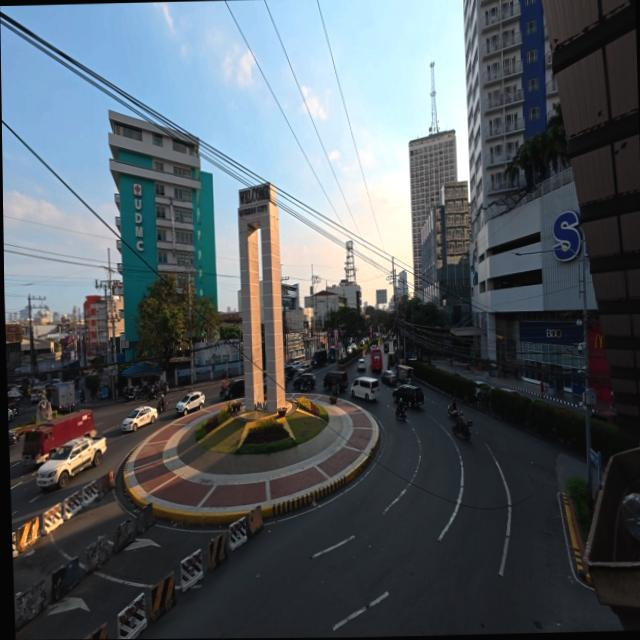Jeepneys: (397, 365, 413, 383)
bus: (370, 345, 382, 372)
car: (121, 407, 157, 432), (393, 385, 424, 407), (176, 392, 204, 416), (218, 377, 244, 399), (294, 374, 316, 391), (475, 380, 491, 401), (382, 370, 398, 384), (500, 387, 521, 396), (284, 364, 295, 380), (297, 364, 311, 376), (8, 430, 18, 445), (357, 358, 366, 371), (290, 361, 301, 369), (8, 409, 14, 421), (347, 345, 354, 353), (52, 379, 61, 385), (383, 342, 388, 352)
motorcycle: (452, 412, 471, 440), (395, 401, 407, 420), (447, 403, 461, 419), (147, 386, 159, 401), (157, 399, 167, 413), (126, 389, 137, 401), (331, 384, 340, 397), (159, 382, 169, 393), (80, 390, 85, 403)
trucks: (23, 410, 95, 465), (37, 437, 106, 489), (49, 382, 75, 413)
vans: (352, 377, 379, 400), (325, 371, 349, 392), (310, 348, 327, 367), (31, 385, 47, 403), (327, 347, 336, 363)
